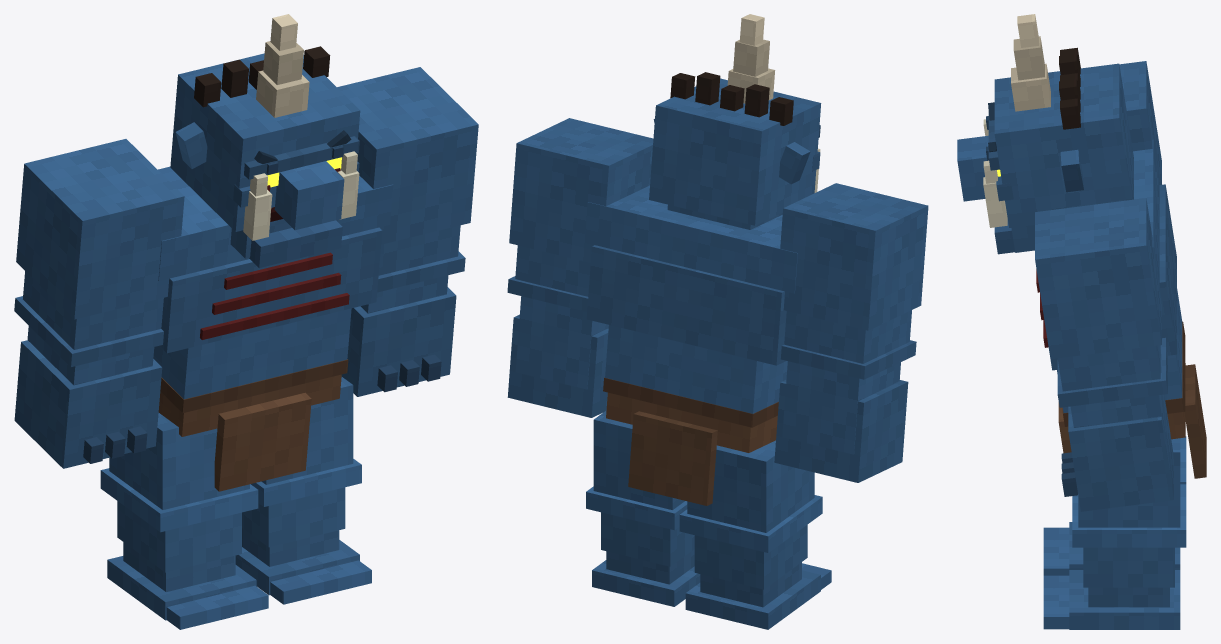
Rendered from ogre_base_evo1.glb.
3 renders of one model, left to right at view 1: azimuth 30°, elevation 25°; view 2: azimuth 150°, elevation 25°; view 3: azimuth 270°, elevation 25°, orthographic. The views are drawn at different scales.
Visible parts, largest first — view 1: ArmR, Torso, Head, ArmL, LegR, LegL; view 2: Torso, ArmR, ArmL, Head, LegR, LegL; view 3: ArmL, Head, LegL, Torso, ArmR, LegR.
Boxes of the visible parts, x1,y1,x2,y2 form: ArmR: [14, 139, 184, 468]; Torso: [153, 166, 393, 491]; Head: [170, 14, 360, 267]; ArmL: [337, 67, 478, 396]; LegR: [100, 413, 268, 629]; LegL: [235, 377, 371, 604]; Torso: [585, 185, 797, 505]; ArmR: [774, 183, 928, 482]; ArmL: [507, 118, 653, 417]; Head: [649, 14, 821, 229]; LegR: [679, 440, 831, 629]; LegL: [586, 410, 700, 606]; ArmL: [1035, 198, 1173, 511]; Head: [957, 14, 1133, 254]; LegL: [1043, 438, 1186, 629]; Torso: [1036, 140, 1206, 478]; ArmR: [1119, 61, 1161, 184]; LegR: [1043, 436, 1186, 575].
Size of the model in its own units: 1.46 by 2.09 by 0.8306.
Materials: 26 (26 with a texture image).
